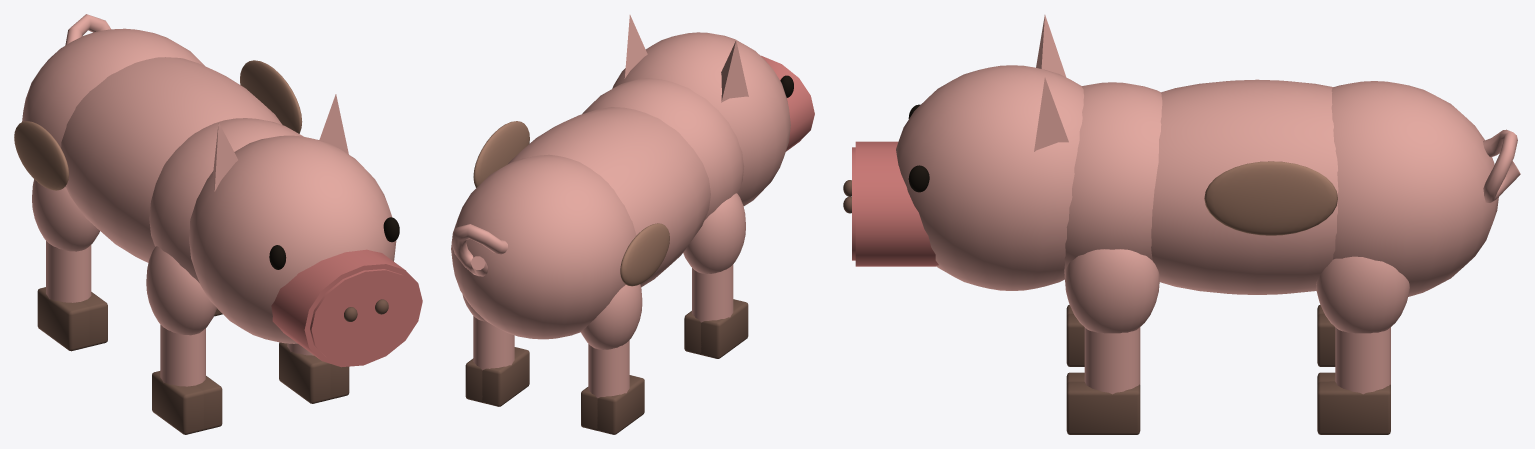
File: PIG_DOMESTIC_PIGLET_LODs.fbx
The picture shows the model from 3 angles, left to right: view 1: azimuth 30°, elevation 25°; view 2: azimuth 150°, elevation 25°; view 3: azimuth 270°, elevation 25°; orthographic projection. The views are drawn at different scales.
Visible parts, largest first — view 1: PIG_DOMESTIC_PIGLET_LOD0; view 2: PIG_DOMESTIC_PIGLET_LOD0; view 3: PIG_DOMESTIC_PIGLET_LOD0.
Part boxes in pixels (box(x1,y1,x2,y2)): PIG_DOMESTIC_PIGLET_LOD0: box(14, 14, 422, 434); PIG_DOMESTIC_PIGLET_LOD0: box(451, 15, 814, 434); PIG_DOMESTIC_PIGLET_LOD0: box(843, 15, 1520, 434).
Size of what is drawn, in the model's own units: 0.24 by 0.35 by 0.62.
